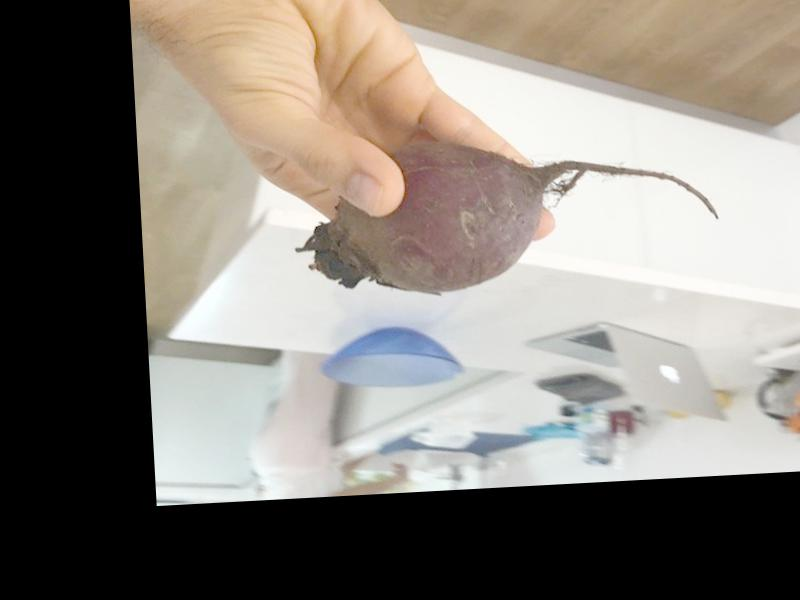Beet: (294, 131, 721, 299)
